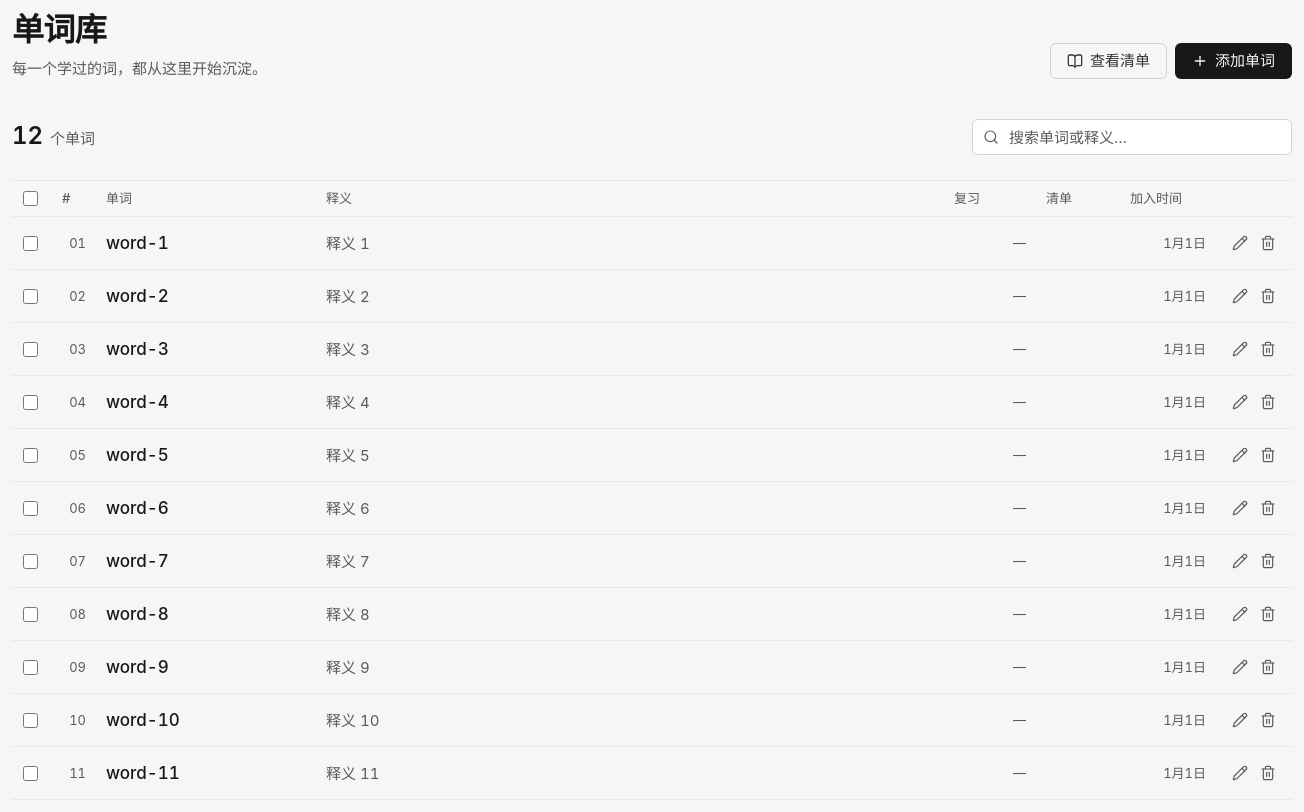
Scenario: 单词的批量删除 › 搜索时「选中全部」只覆盖筛选结果
This screenshot has width=1304, height=812.
In the search field labelled "搜索单词或释义": (1147, 137) [1007, 120, 1287, 154], type "word-1"
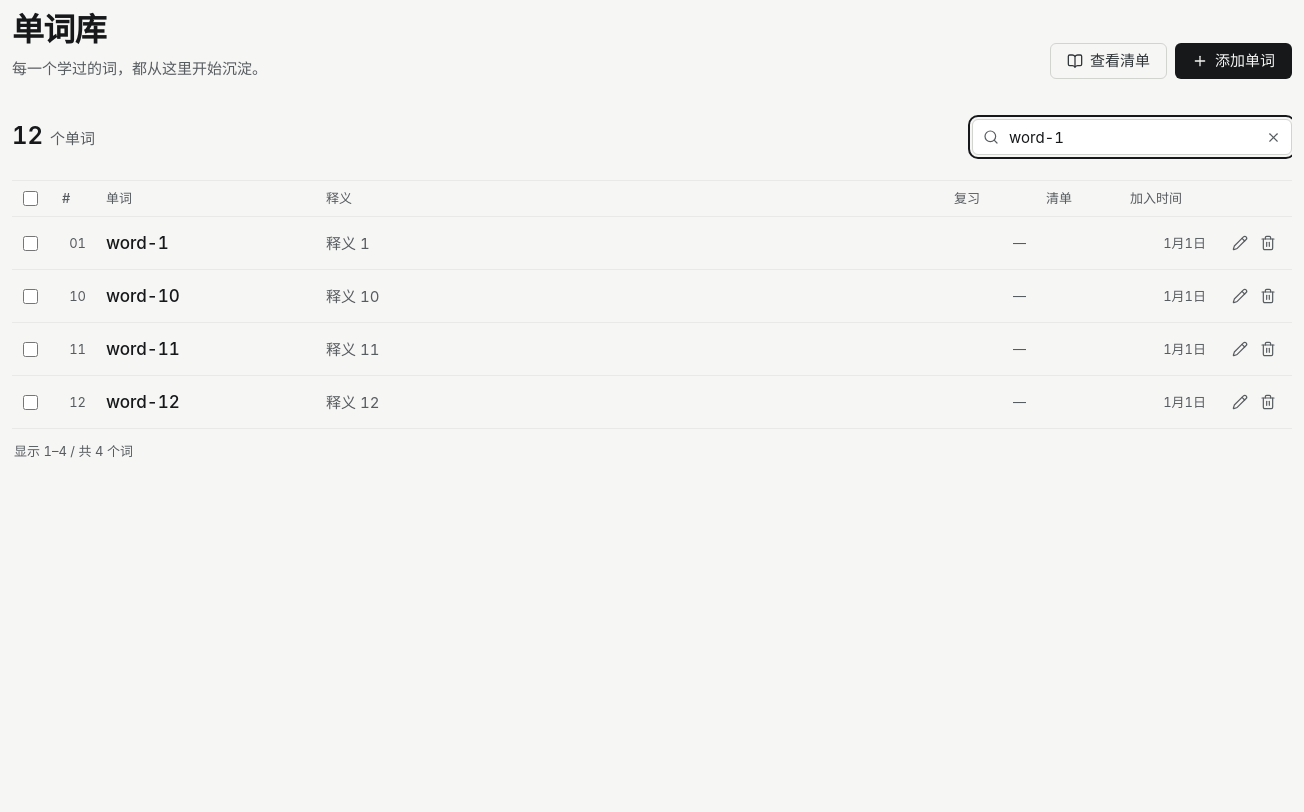
Click the checkbox named "选择 word-1": click(30, 243) [22, 236, 38, 251]
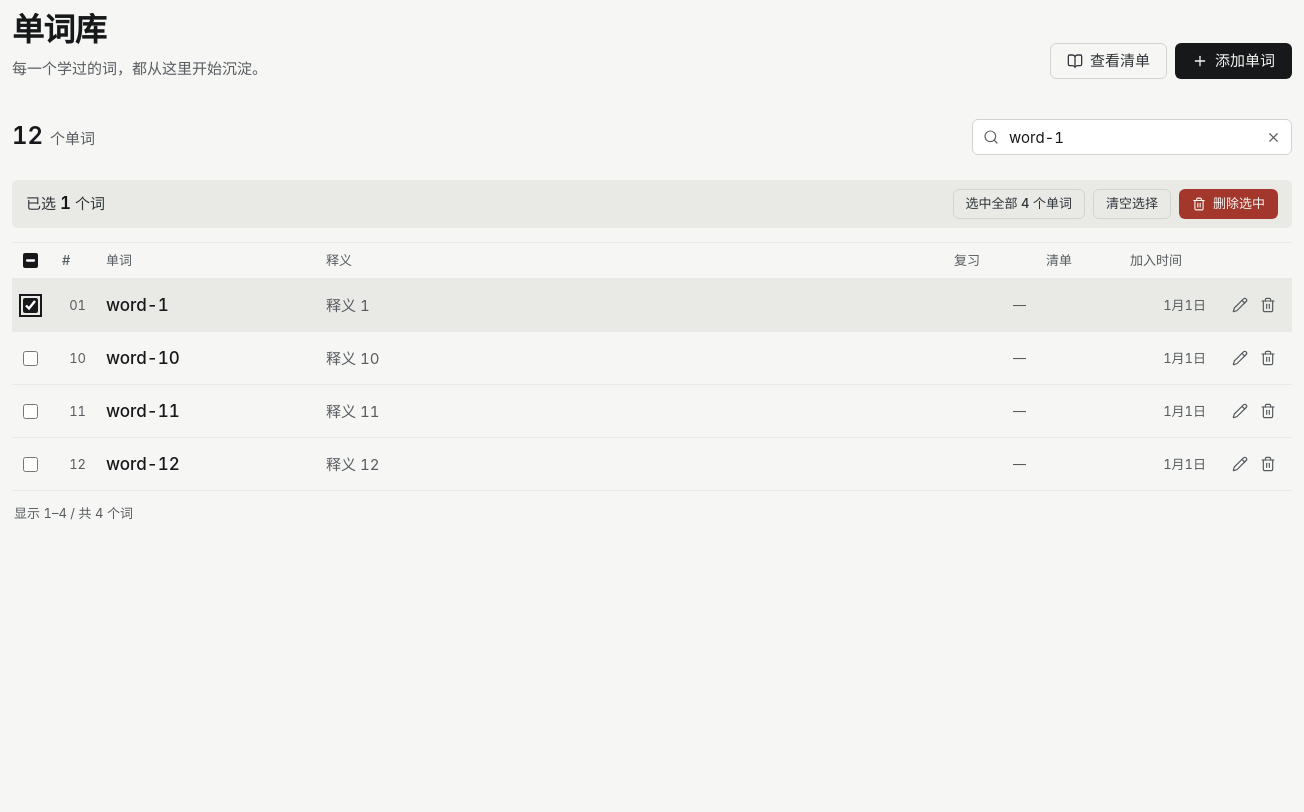
Click the button "选中全部 4 个单词": click(1019, 204) [952, 189, 1085, 219]
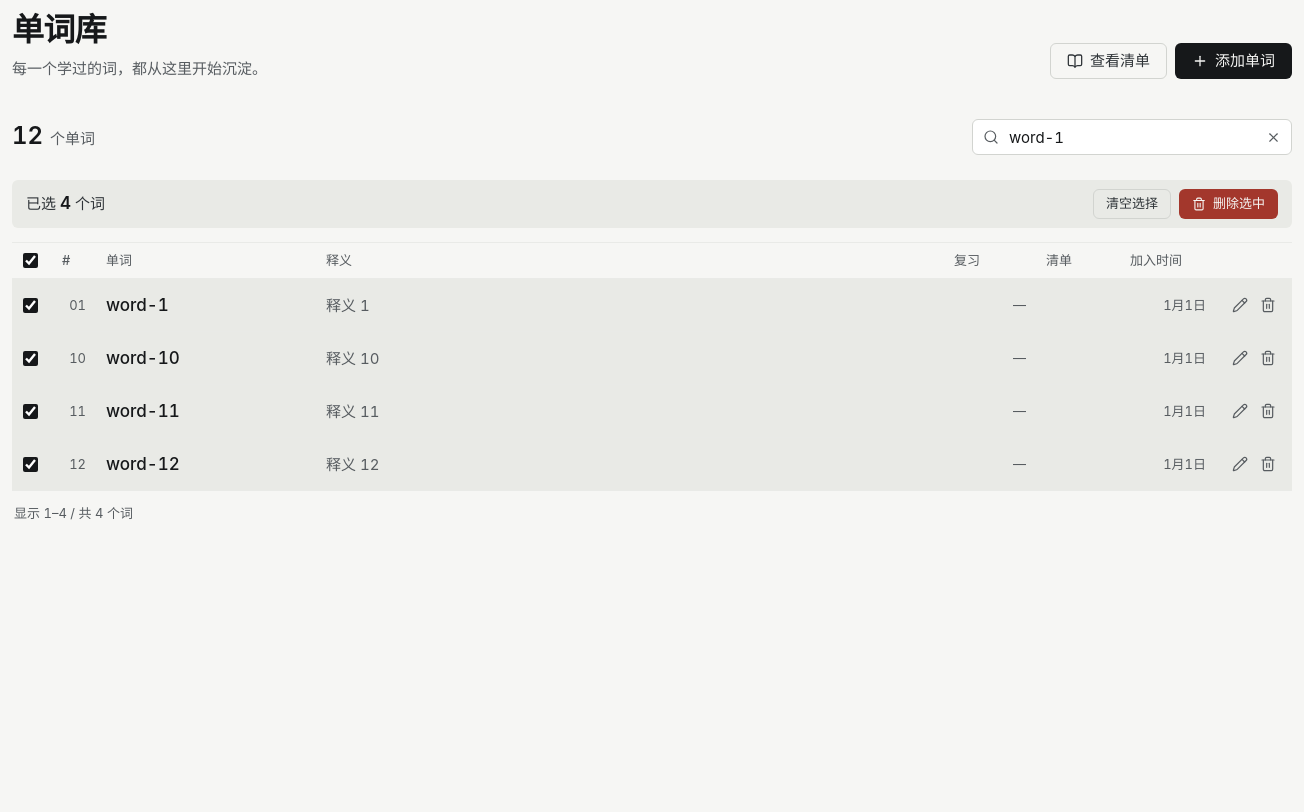
Check: the message does not show "不在当前页", box [26, 192, 105, 216]
Check: the message reads "已选 4 个词", box [26, 192, 105, 216]
